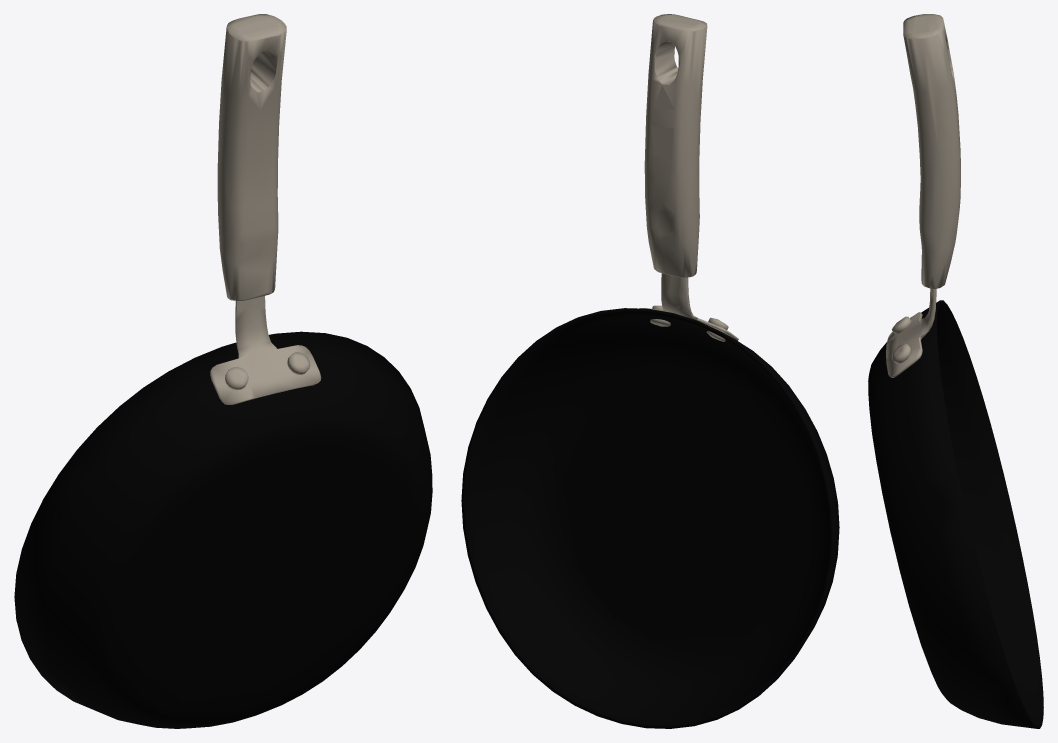
Rendered from pan.obj.
3 renders of one model, left to right at view 1: azimuth 30°, elevation 25°; view 2: azimuth 150°, elevation 25°; view 3: azimuth 270°, elevation 25°, orthographic. The views are drawn at different scales.
Visible parts, largest first — view 1: kitchen_pan; view 2: kitchen_pan; view 3: kitchen_pan.
Boxes of the visible parts, box(x1,y1,x2,y2) form: kitchen_pan: box(14, 14, 432, 728); kitchen_pan: box(461, 14, 839, 728); kitchen_pan: box(868, 14, 1043, 728).
Bounding box in the file's own units: 0.2907 × 0.4977 × 0.1158.
